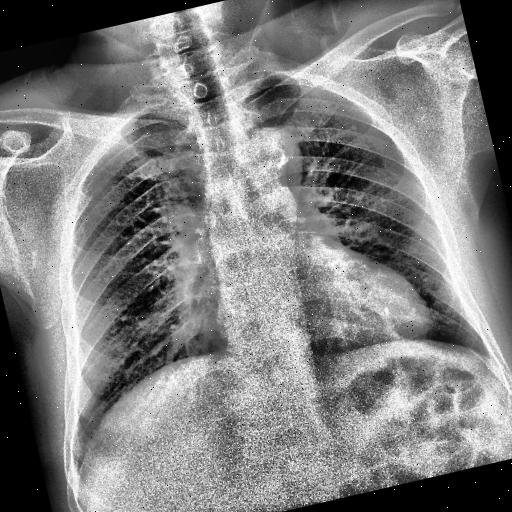0- Aortic enlargement: (224, 120, 310, 194), (238, 118, 308, 184), (244, 120, 305, 184)
3- Cardiomegaly: (216, 264, 440, 384), (212, 262, 434, 383), (214, 264, 434, 386)
